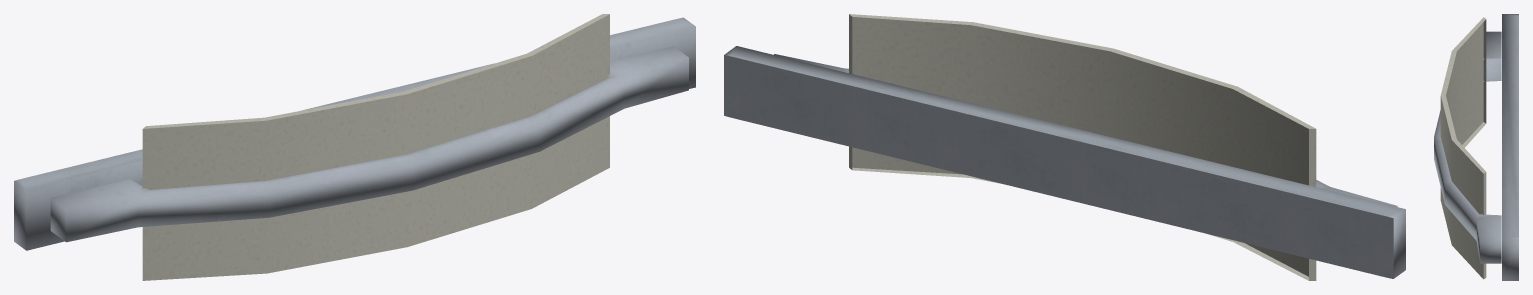
The model's file is p6_light_modern_sconce_off_lod2.glb.
3 views of the same model, side by side, from view 1: azimuth 30°, elevation 25°; view 2: azimuth 150°, elevation 25°; view 3: azimuth 270°, elevation 25° (orthographic). The views are drawn at different scales.
Parts seen in each view (by area): view 1: surf1, surf0; view 2: surf0, surf1; view 3: surf0, surf1.
Boxes of the visible parts, box(x1,y1,x2,y2) form: surf1: box(142, 14, 609, 280); surf0: box(14, 17, 695, 250); surf0: box(724, 46, 1405, 278); surf1: box(849, 14, 1316, 280); surf0: box(1434, 14, 1518, 280); surf1: box(1440, 17, 1486, 279).
Size of the model in its own units: 55.18 by 12.09 by 8.81.
